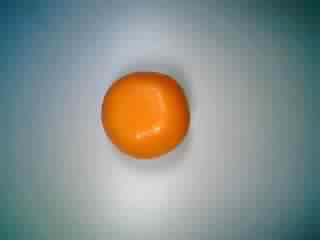orange: (94, 63, 192, 162)
